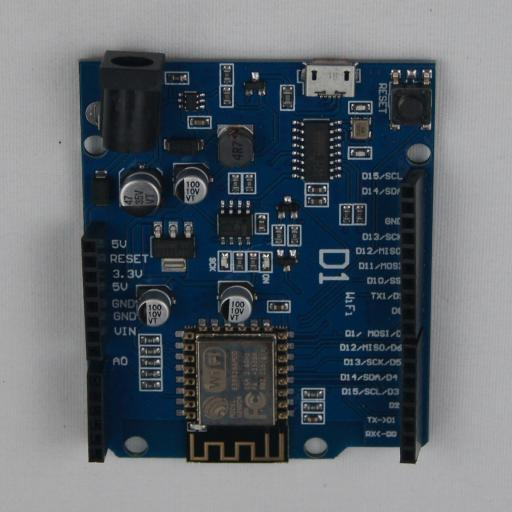Arduino Uno WiFi Shield: (79, 51, 435, 463)
